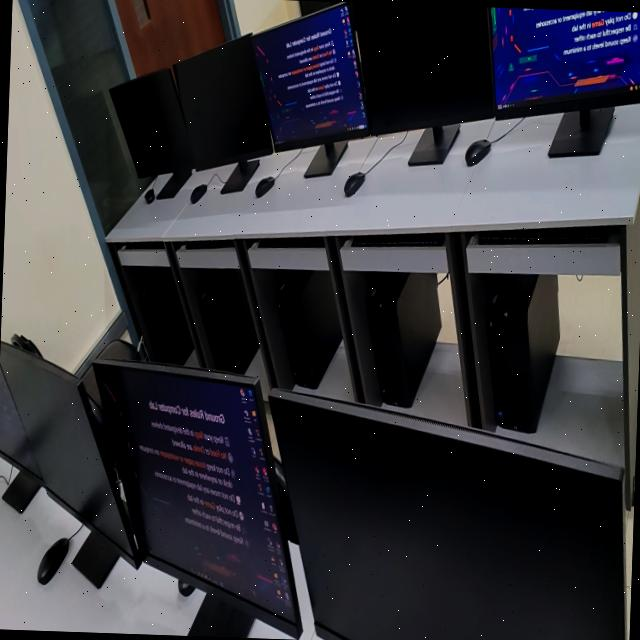Cpu: (472, 273, 559, 431), (365, 272, 440, 405), (275, 270, 341, 387), (366, 274, 413, 405), (199, 270, 257, 371), (137, 265, 192, 363)
Monitor: (270, 390, 622, 640), (92, 360, 301, 636), (0, 341, 133, 563), (347, 1, 494, 133), (251, 2, 368, 158), (487, 6, 640, 117), (174, 34, 272, 168), (109, 68, 192, 176)
Mouse: (36, 538, 68, 583), (464, 138, 490, 164), (344, 171, 364, 195), (254, 175, 273, 196), (189, 183, 205, 202), (143, 188, 153, 202)
